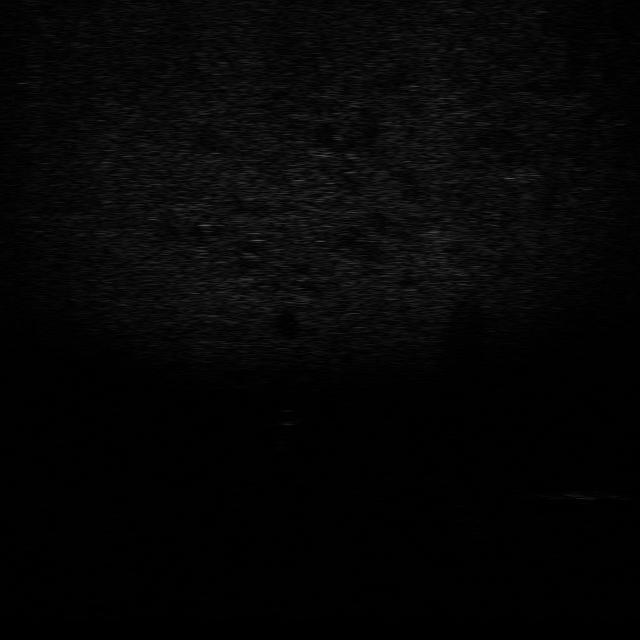ball: (272, 407, 302, 428)
metal bucket: (538, 486, 626, 506)
tyre: (442, 499, 493, 546)
